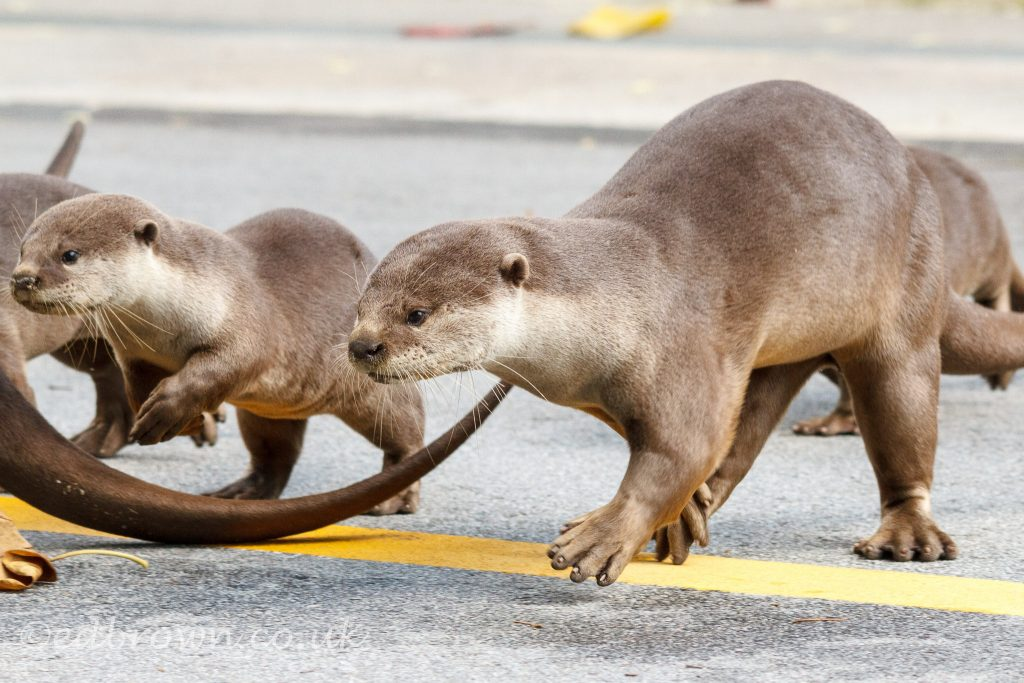otter: (339, 70, 1021, 599), (6, 169, 431, 529)
